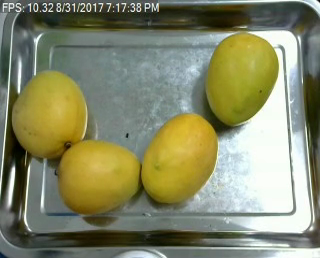Mango: (140, 114, 216, 204), (205, 32, 279, 124), (12, 70, 89, 158), (58, 142, 144, 213)
